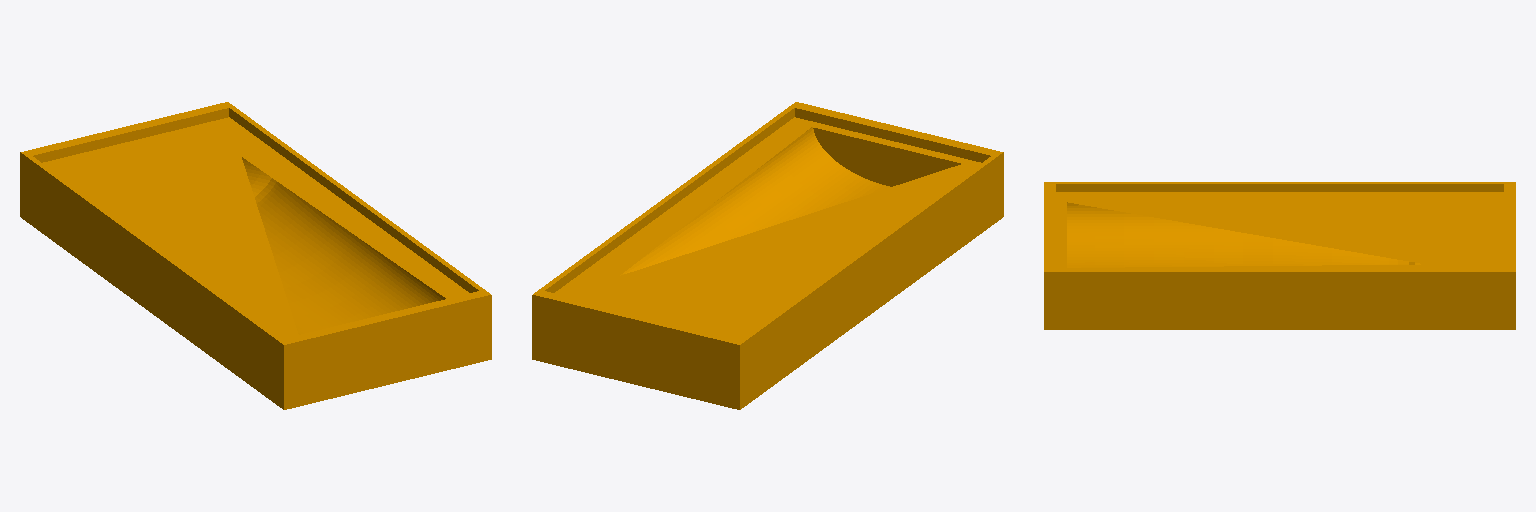
The robot description file, URDF, robot "shampoo_box.urdf":
<?xml version="1.0" ?>
<robot name="shampoo_box.urdf">
  <link name="baseLink">
    <contact>
      <lateral_friction value="0.5"/>
      <rolling_friction value="0.0"/>
      <contact_cfm value="0.0"/>
      <contact_erp value="1.0"/>
    </contact>
    <inertial>
      <origin rpy="0 0 0" xyz="0.0 0.0 0.0"/>
       <mass value=".1"/>
       <inertia ixx="1" ixy="0" ixz="0" iyy="1" iyz="0" izz="1"/>
    </inertial>
    <visual>
      <origin rpy="0 0 0" xyz="0 0 0"/>
      <geometry>
        <mesh filename="shampoo_box.obj" scale=".1 .10 .10"/> #scale="1 1 1"
      </geometry>
    </visual>
    <collision>
      <origin rpy="0 0 0" xyz="0 0 0"/>
      <geometry>
	 <mesh filename="shampoo_box.obj" scale=".10 .10 .10"/> #scale=".1 .1 .1"
      </geometry>
    </collision>
  </link>
</robot>

--- Facts derived from the render (not from the file) ---
Views: 3 orthographic renders of the robot side by side, from view 1: azimuth 30°, elevation 25°; view 2: azimuth 150°, elevation 25°; view 3: azimuth 270°, elevation 25°.
Robot: shampoo_box.urdf — 1 links, 0 joints (none); root link baseLink; default pose: all joints at 0.
Visible links, largest first — view 1: baseLink; view 2: baseLink; view 3: baseLink.
Boxes of the visible links, bbox=[...] form: baseLink: bbox=[20, 102, 491, 409]; baseLink: bbox=[532, 102, 1003, 409]; baseLink: bbox=[1044, 182, 1515, 329].
Bounding box of the posed robot: 0.2 × 0.44 × 0.06 m (x, y, z).
1 mesh visuals loaded from 1 distinct referenced files (1 OBJ).